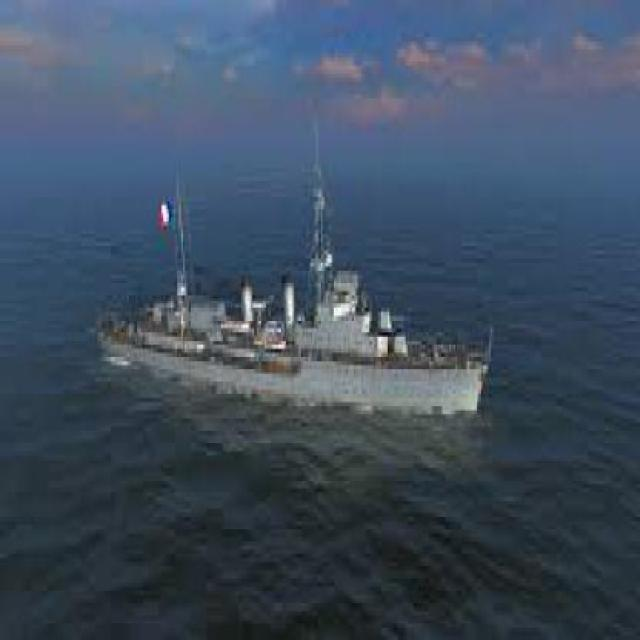warship2: (70, 140, 503, 457)
